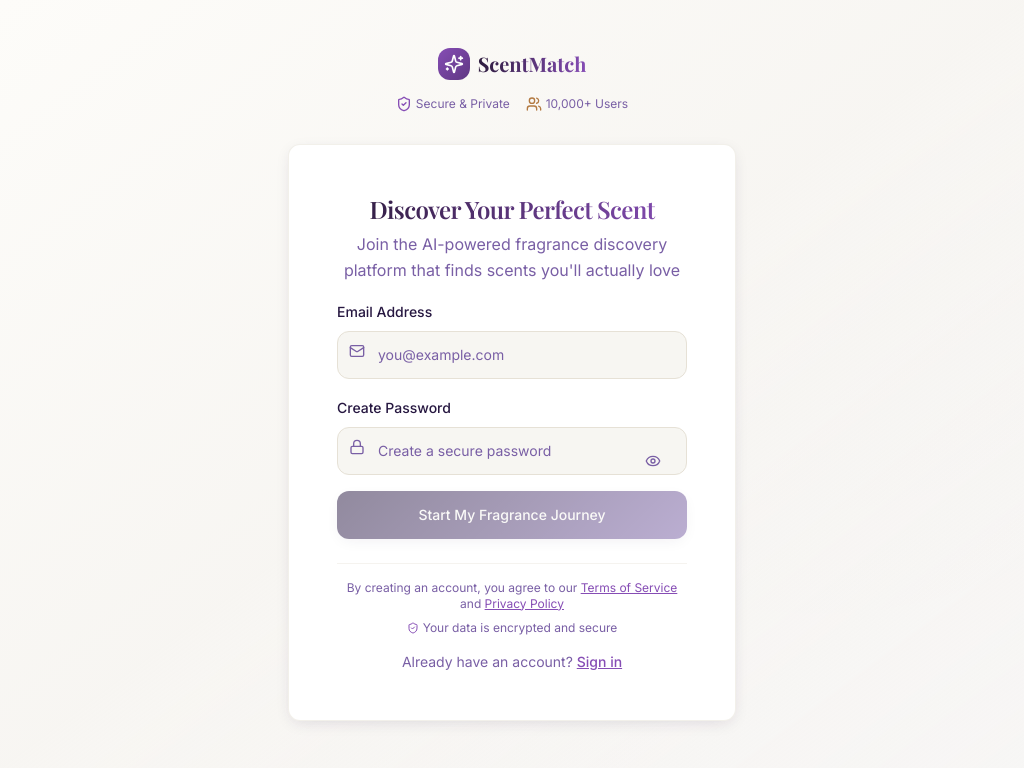
Test case: Authentication Page Conversion Psychology › 4. User Psychology and Confidence Building › 4.1 Loading State Psychology › loading states build excitement not anxiety
Type "user@example.com" into the field labelled "Email Address" at (512, 354), box x1=337 y1=330 x2=687 y2=378
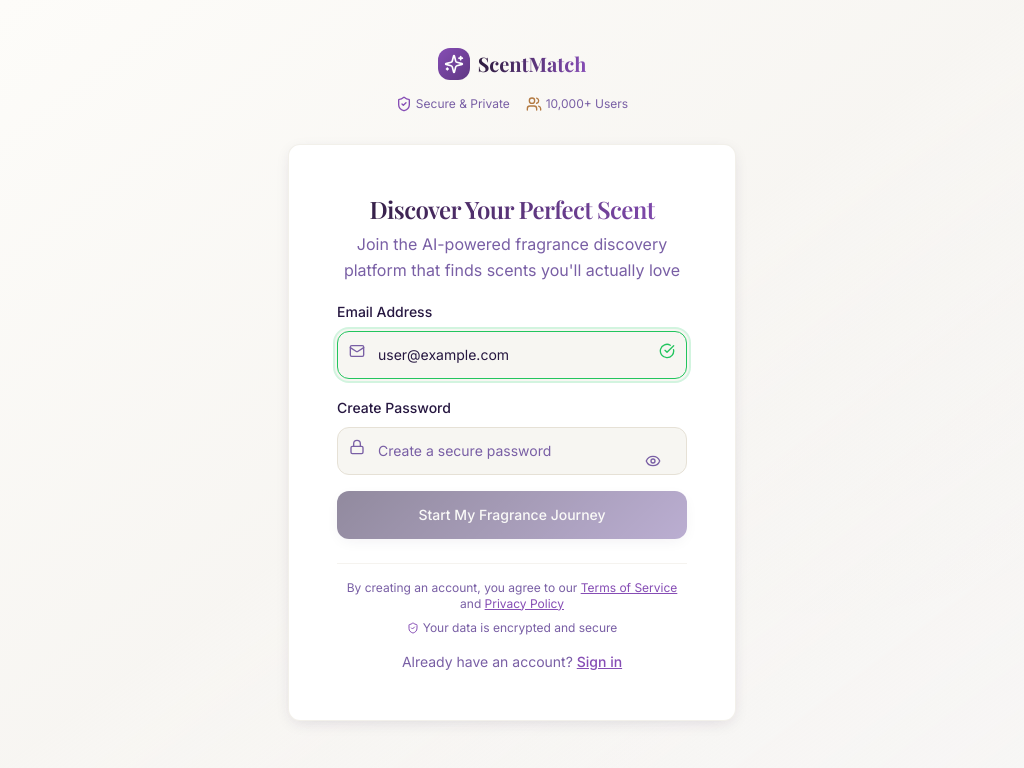
Type "SecurePass123" into the password field labelled "Create Password" at (512, 450), box x1=337 y1=426 x2=687 y2=474
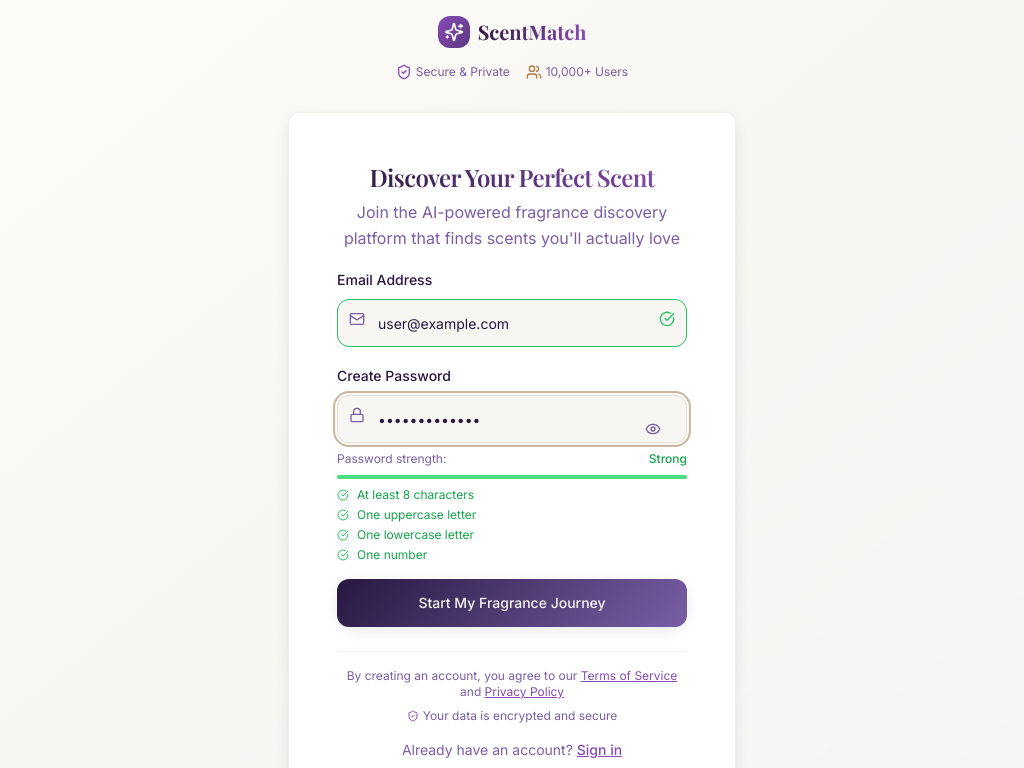
// Click submit to trigger loading state
Click the button "Start My Fragrance Journey" at (512, 603), box x1=337 y1=579 x2=687 y2=627
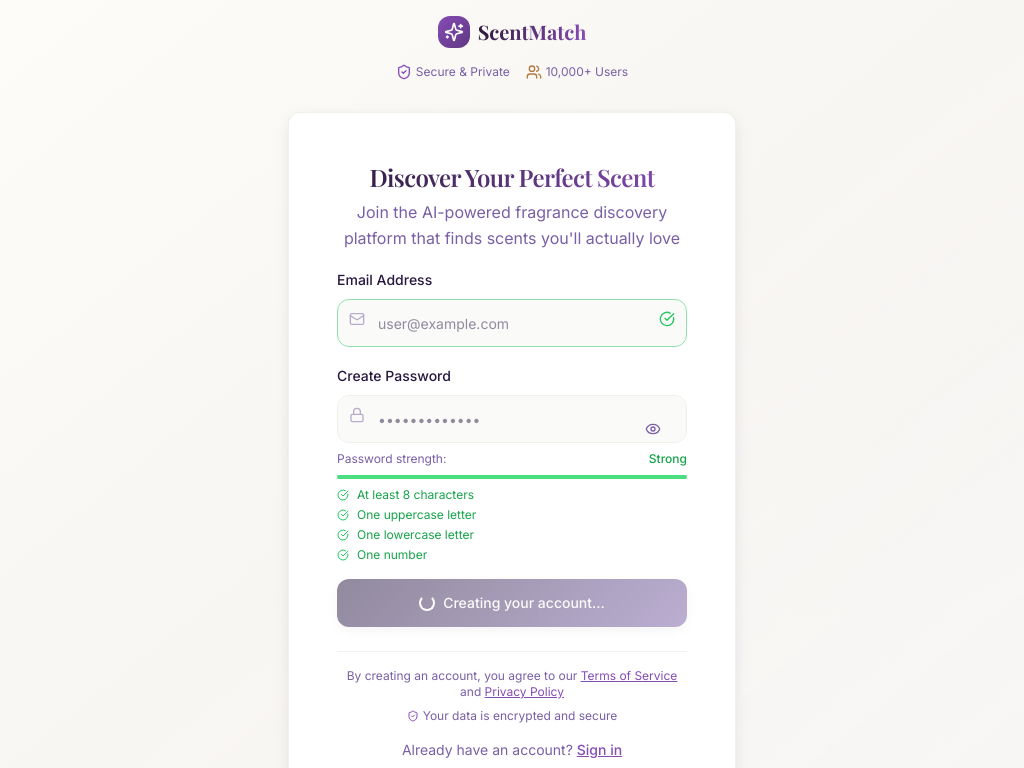
Check: the text "Creating your account..." is shown, box x1=443 y1=593 x2=605 y2=613
Check: the element with class "animate-spin" is shown, box x1=419 y1=595 x2=435 y2=611
